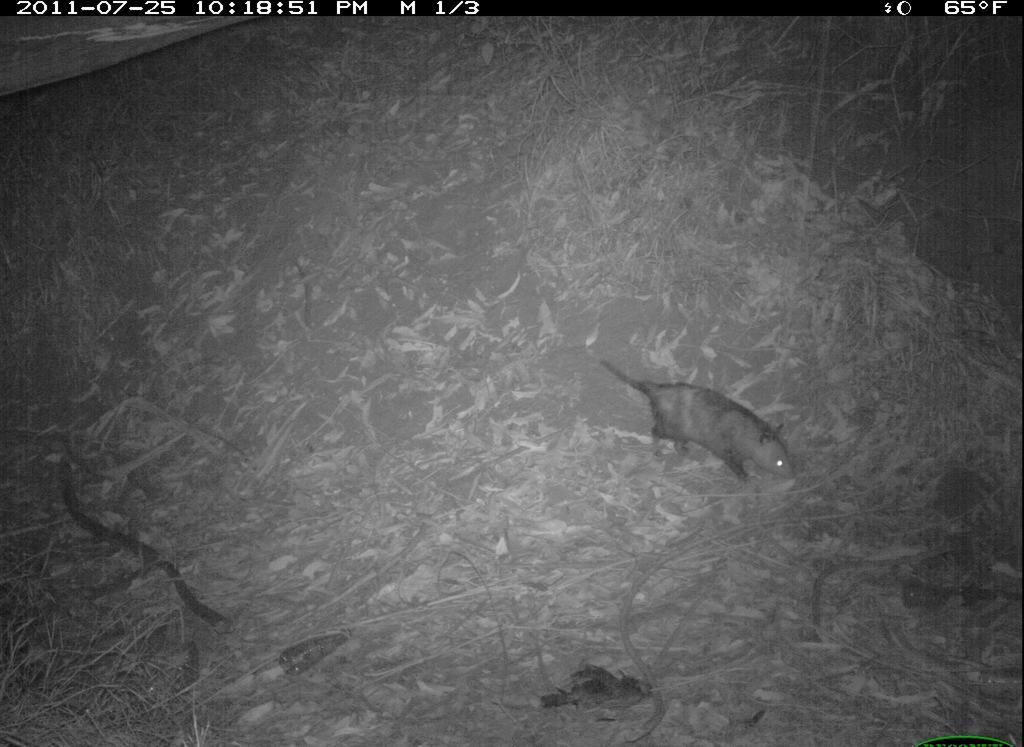opossum: (566, 337, 833, 520)
